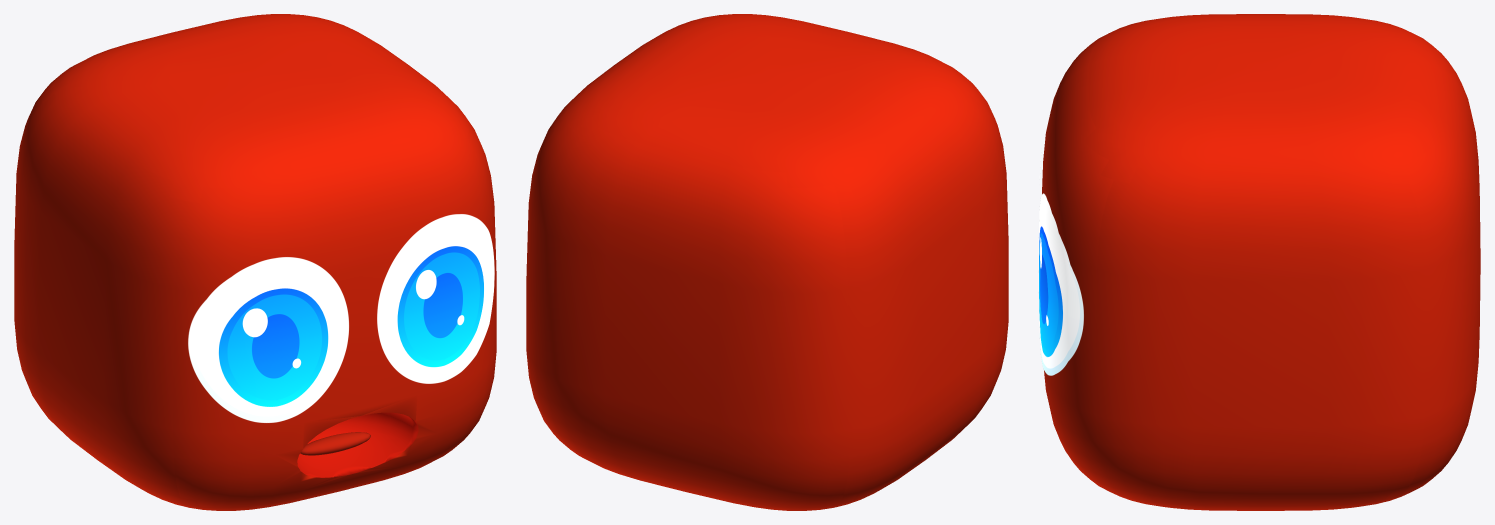
The model's file is slime_red.glb.
The picture shows the model from 3 angles, left to right: view 1: azimuth 30°, elevation 25°; view 2: azimuth 150°, elevation 25°; view 3: azimuth 270°, elevation 25°; orthographic projection. The views are drawn at different scales.
Visible parts, largest first — view 1: Slime_Red.001; view 2: Slime_Red.001; view 3: Slime_Red.001.
Part boxes in pixels (box(x1,y1,x2,y2)): Slime_Red.001: box(14, 14, 496, 510); Slime_Red.001: box(526, 14, 1008, 510); Slime_Red.001: box(1038, 14, 1480, 510).
Size of the model in its own units: 0.92 by 0.8968 by 0.92.
4 materials, 1 textured.
